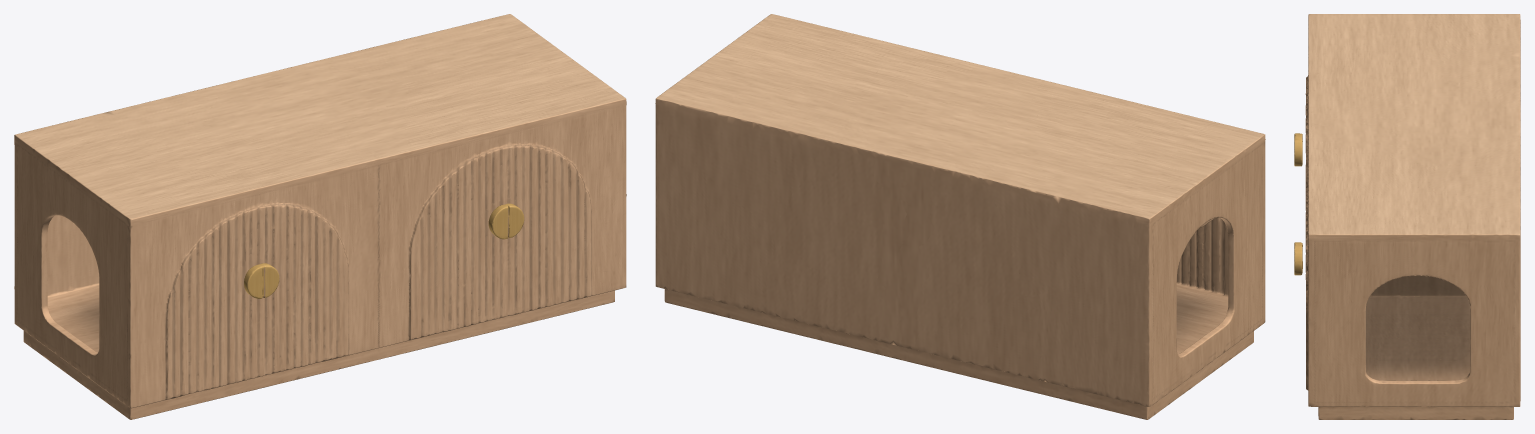
File: cat-litter-cabinet-oak-refined.glb
3 renders of one model, left to right at view 1: azimuth 30°, elevation 25°; view 2: azimuth 150°, elevation 25°; view 3: azimuth 270°, elevation 25°, orthographic. The views are drawn at different scales.
Size of the model in its own units: 1.9 by 0.755 by 0.8222.
Materials: 1 (1 with a texture image).
